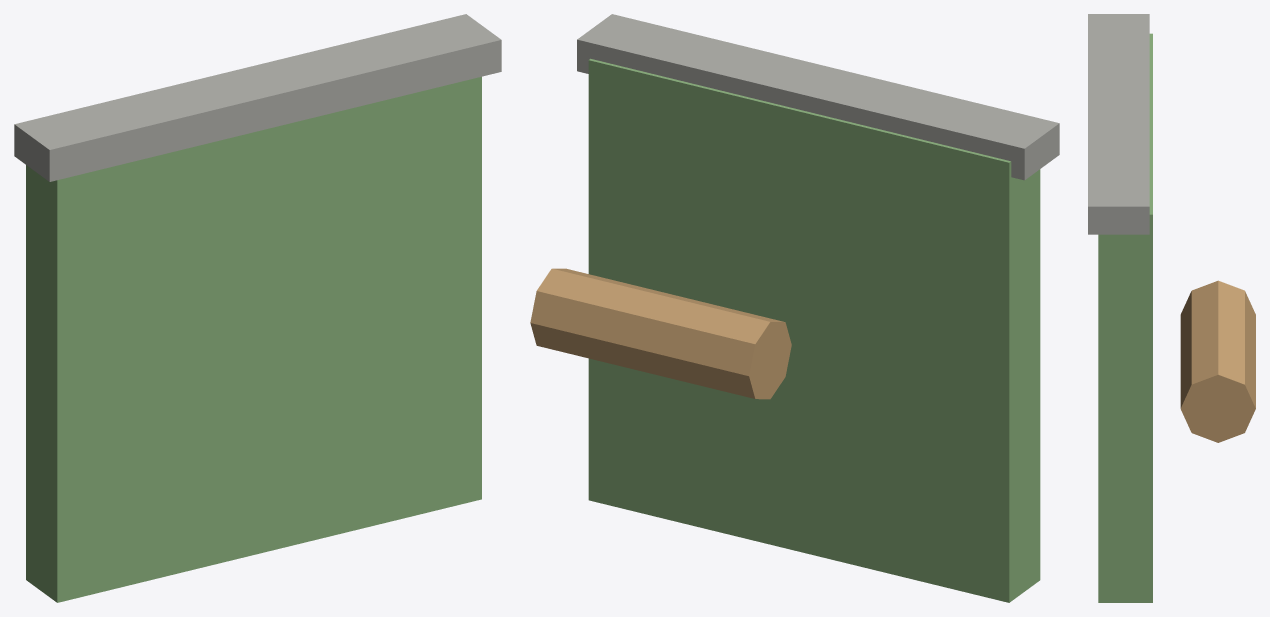
The picture shows the model from 3 angles, left to right: view 1: azimuth 30°, elevation 25°; view 2: azimuth 150°, elevation 25°; view 3: azimuth 270°, elevation 25°; orthographic projection. The views are drawn at different scales.
Parts seen in each view (by area): view 1: base, edge; view 2: base, edge, log; view 3: base, edge, log.
Boxes of the visible parts, x1,y1,x2,y2 form: base: (26,76,481,602); edge: (14,14,501,181); base: (588,58,1040,602); edge: (577,14,1059,180); log: (530,268,791,399); base: (1098,33,1152,602); edge: (1088,14,1149,234); log: (1180,280,1255,442).
Size of the model in its own units: 1.33 by 1.3 by 0.49.
